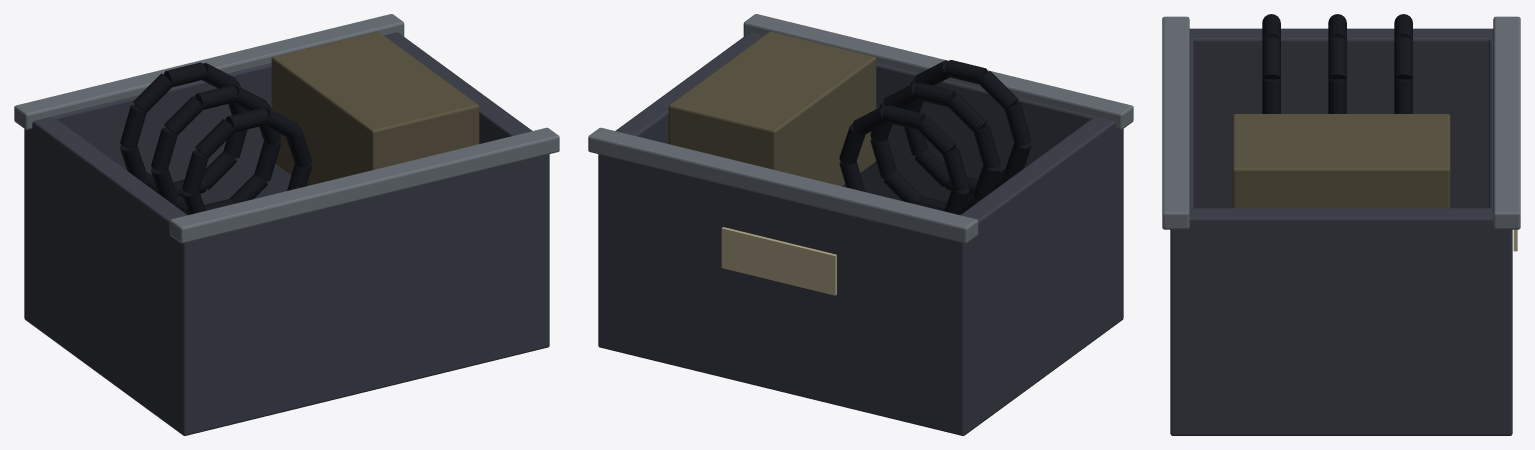
File: plastic_bin_cables.glb
3 renders of one model, left to right at view 1: azimuth 30°, elevation 25°; view 2: azimuth 150°, elevation 25°; view 3: azimuth 270°, elevation 25°, orthographic. The views are drawn at different scales.
Visible parts, largest first — view 1: plastic_bin_cables; view 2: plastic_bin_cables; view 3: plastic_bin_cables.
Boxes of the visible parts, bbox=[...] form: plastic_bin_cables: bbox=[14, 14, 559, 435]; plastic_bin_cables: bbox=[588, 14, 1133, 435]; plastic_bin_cables: bbox=[1162, 14, 1520, 435].
Bounding box in the file's own units: 0.6 × 0.3976 × 0.461.
